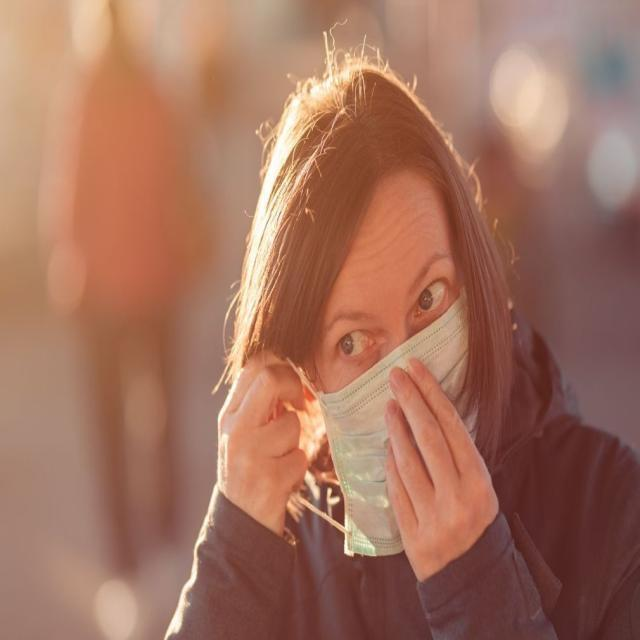hairnet: (223, 29, 542, 592)
